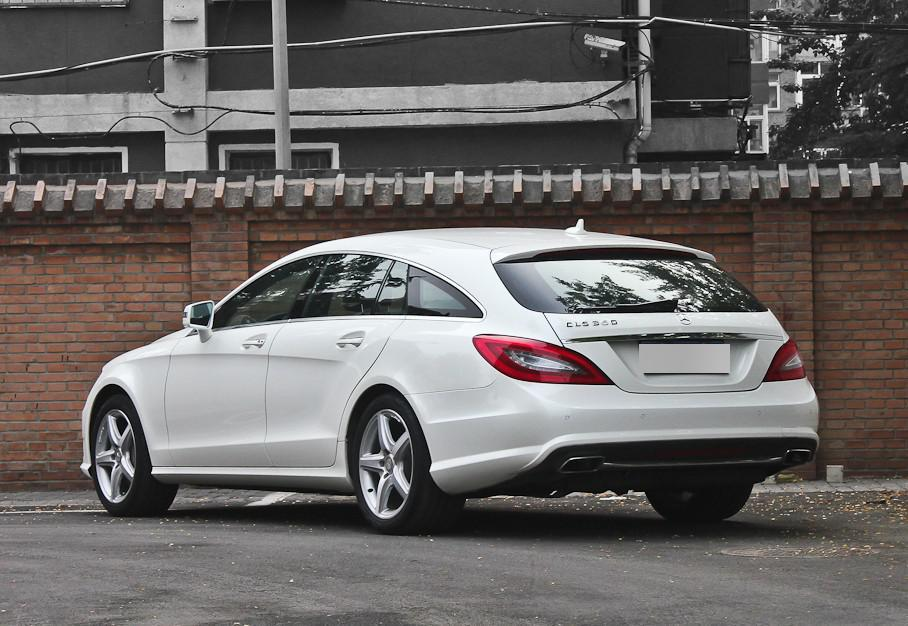Wagon: (77, 215, 821, 535)
